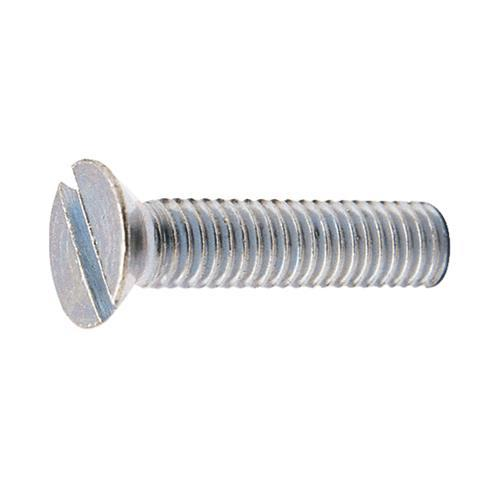Tornillo: (46, 156, 452, 332)
